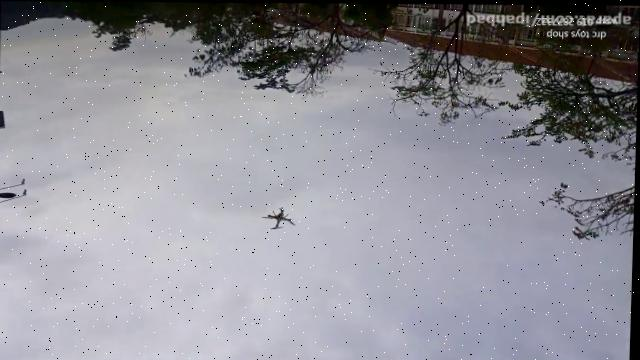drone: (261, 204, 297, 230)
